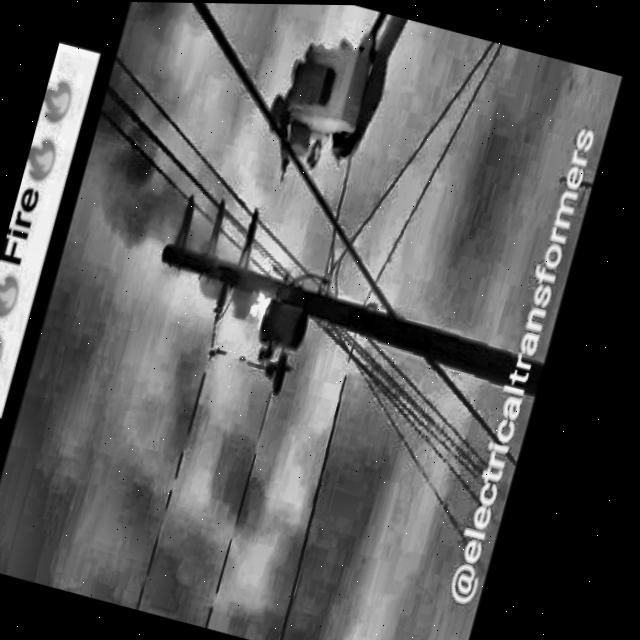Fire: (238, 272, 289, 334)
